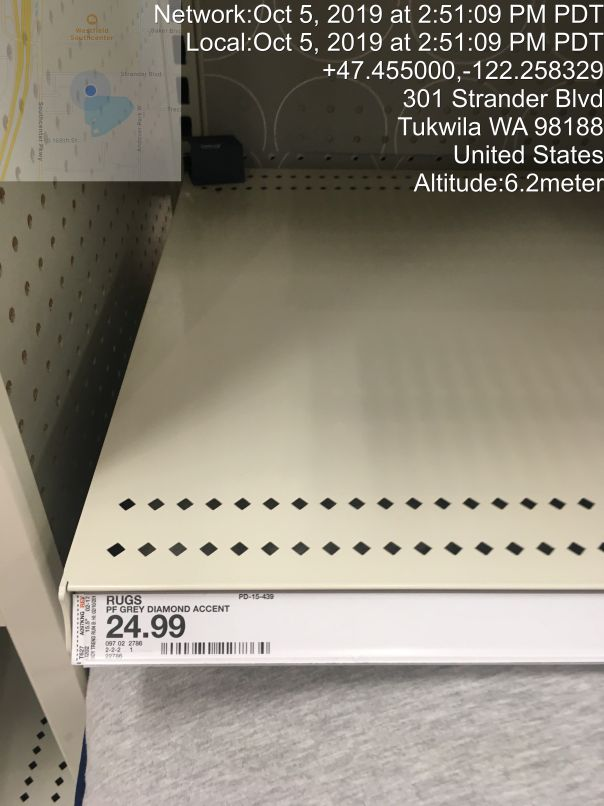Label: (74, 588, 287, 664)
Location: (394, 84, 604, 172)
Time: (140, 2, 600, 57)
Void: (173, 108, 551, 529)
